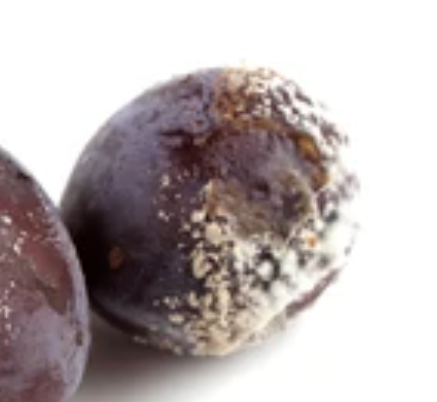plum_C: (55, 66, 366, 360)
